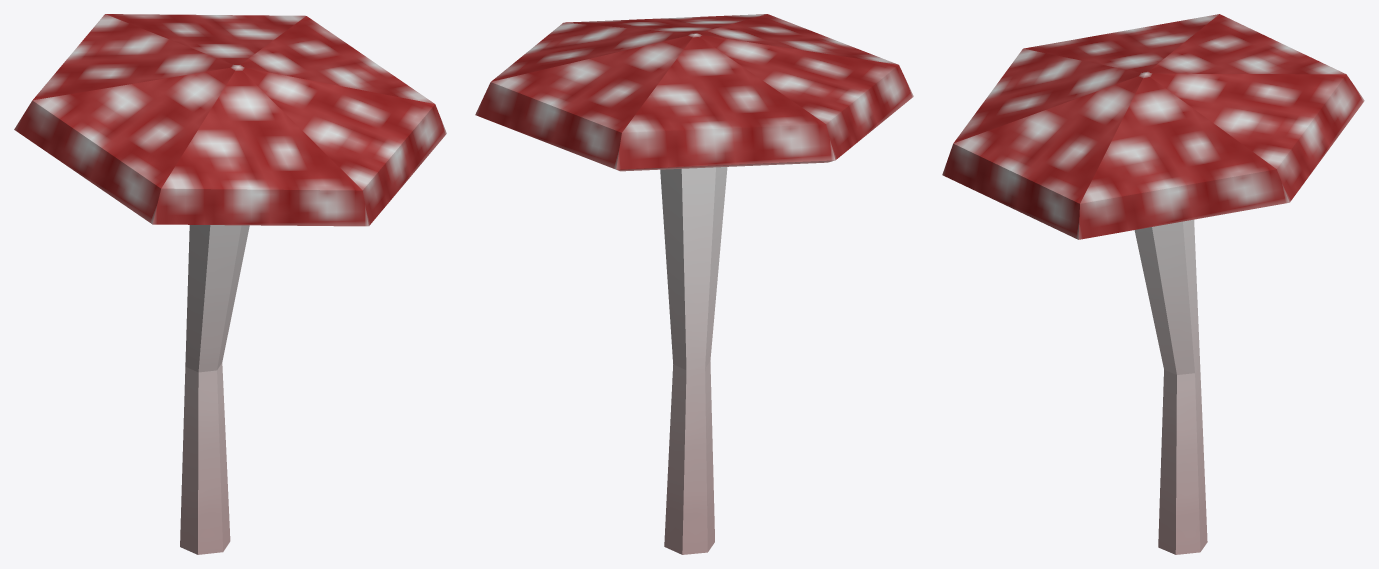
The model's file is Colony_Mushroom_Art.glb.
The picture shows the model from 3 angles, left to right: view 1: azimuth 30°, elevation 25°; view 2: azimuth 150°, elevation 25°; view 3: azimuth 270°, elevation 25°; orthographic projection. The views are drawn at different scales.
Parts seen in each view (by area): view 1: Colony_Mushroom_Art; view 2: Colony_Mushroom_Art; view 3: Colony_Mushroom_Art.
Boxes of the visible parts, x1,y1,x2,y2 form: Colony_Mushroom_Art: (14,14,446,554); Colony_Mushroom_Art: (475,14,913,554); Colony_Mushroom_Art: (942,14,1364,554).
Size of the model in its own units: 0.7122 by 0.9335 by 0.748.
Materials: 1 (1 with a texture image).
